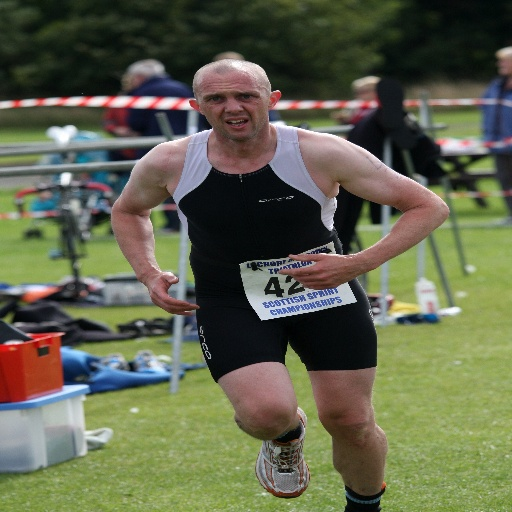hand: (277, 254, 357, 292), (139, 271, 201, 317)
